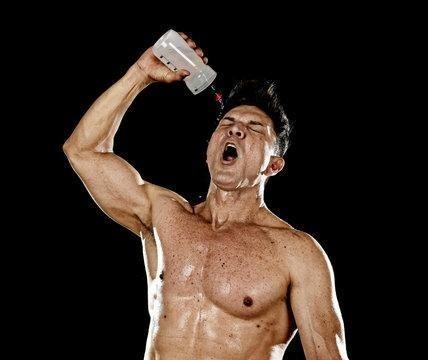gym bottle: (151, 27, 224, 104)
